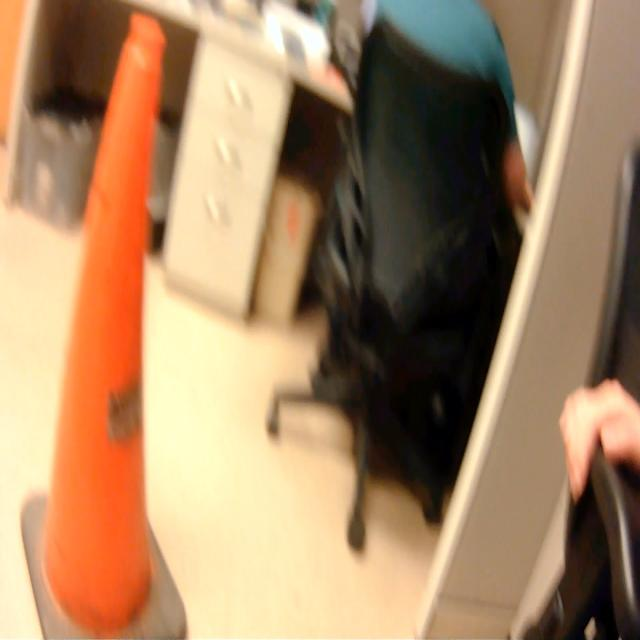traffic cone: (18, 6, 193, 640)
